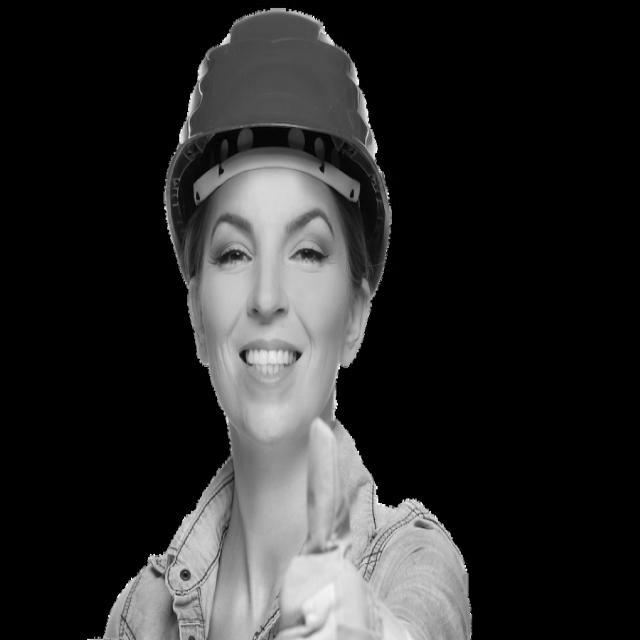construction helmet: (163, 8, 393, 291)
